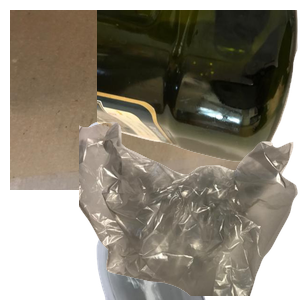cardboard: (10, 10, 250, 190)
glass: (81, 120, 300, 300)
plastic: (97, 10, 300, 165)
trash: (79, 120, 300, 300)
